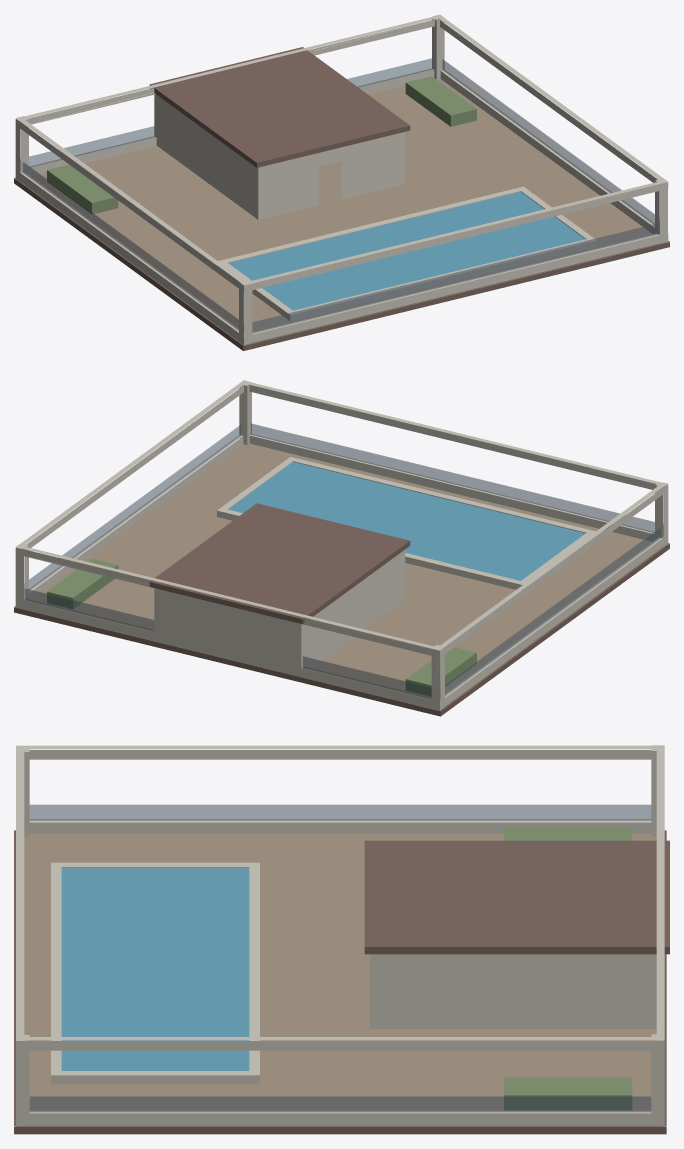
Rendered from brick-roof-b.reveal-v1.lod1.glb.
3 views of the same model, one above another, from view 1: azimuth 30°, elevation 25°; view 2: azimuth 150°, elevation 25°; view 3: azimuth 270°, elevation 25° (orthographic). The views are drawn at different scales.
Parts seen in each view (by area): view 1: brick-roof-b; view 2: brick-roof-b; view 3: brick-roof-b.
Boxes of the visible parts, bbox=[...] form: brick-roof-b: bbox=[14, 14, 669, 350]; brick-roof-b: bbox=[14, 380, 669, 716]; brick-roof-b: bbox=[14, 745, 669, 1134].
Size of the model in its own units: 26.16 by 3.86 by 24.48.
